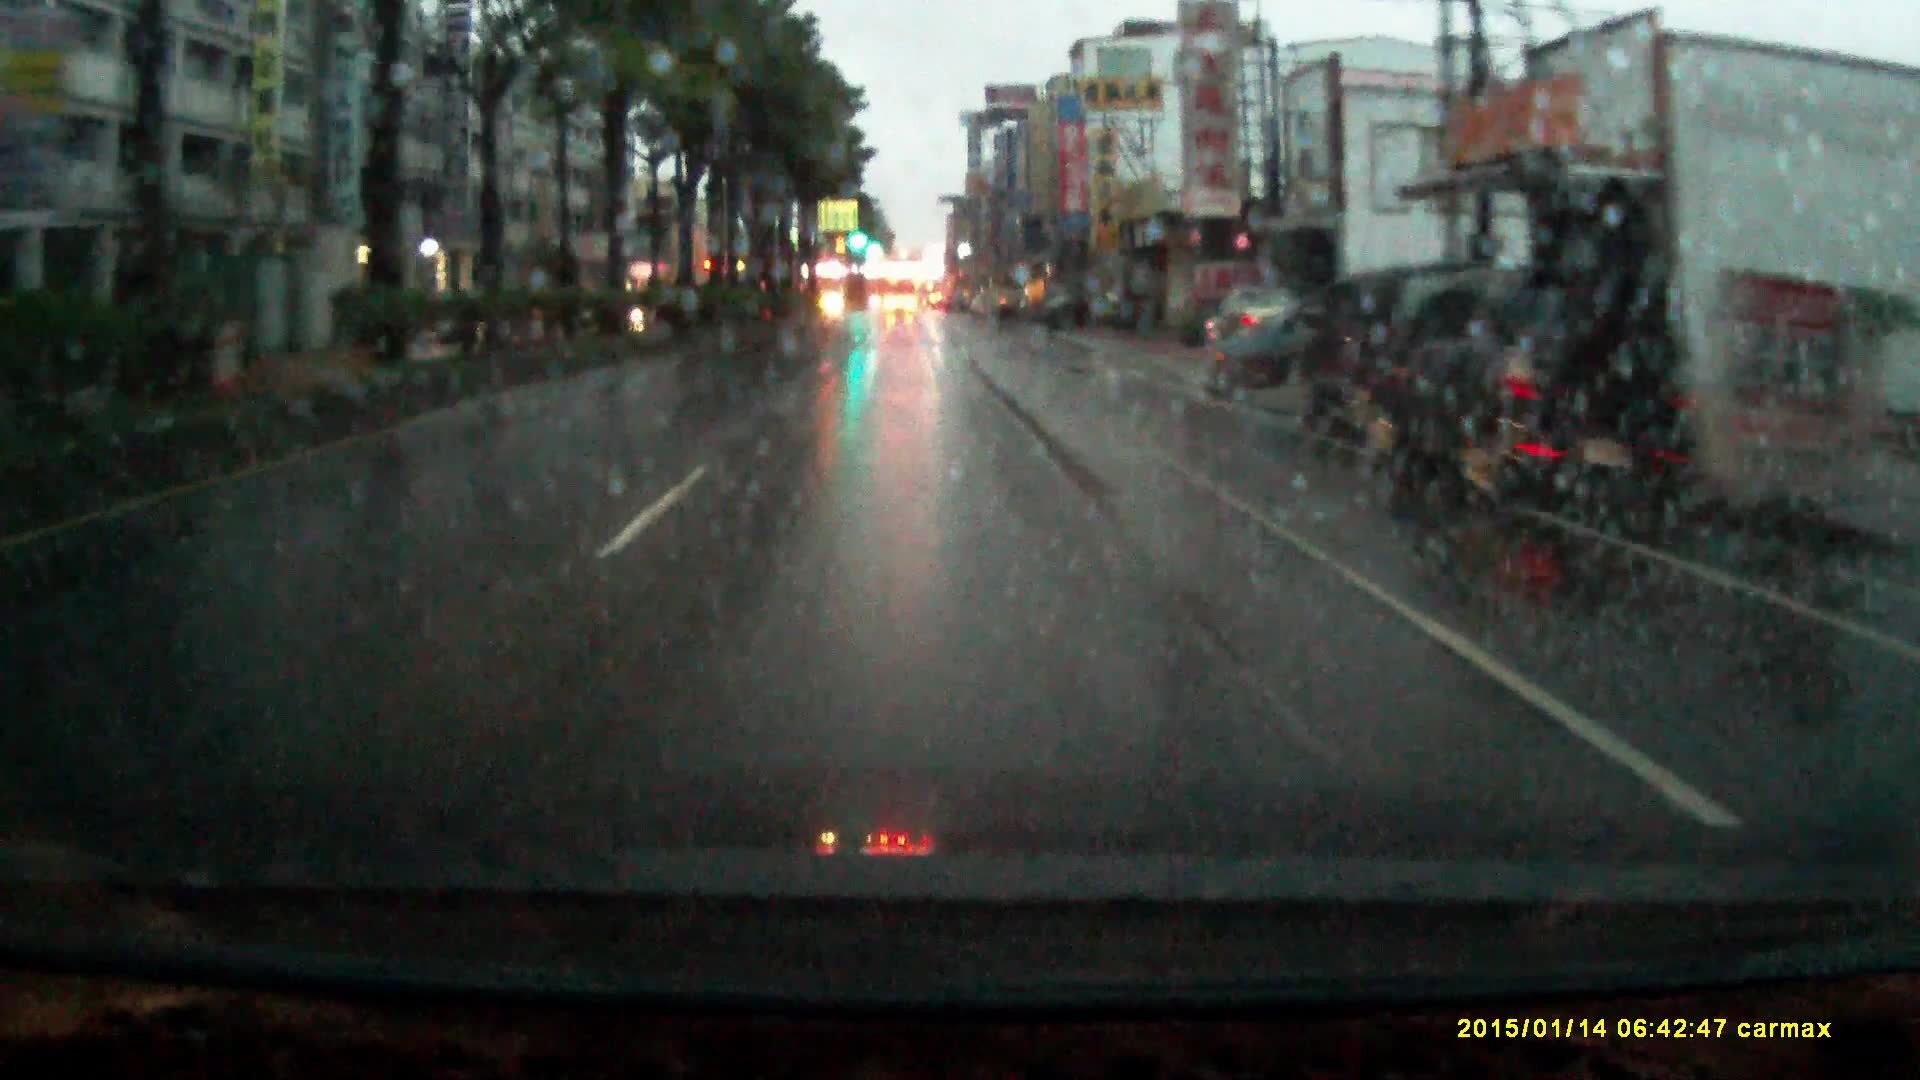vehicle: (1350, 251, 1724, 496), (1280, 257, 1507, 443), (1204, 291, 1333, 392), (981, 276, 1026, 313), (885, 285, 918, 310)
